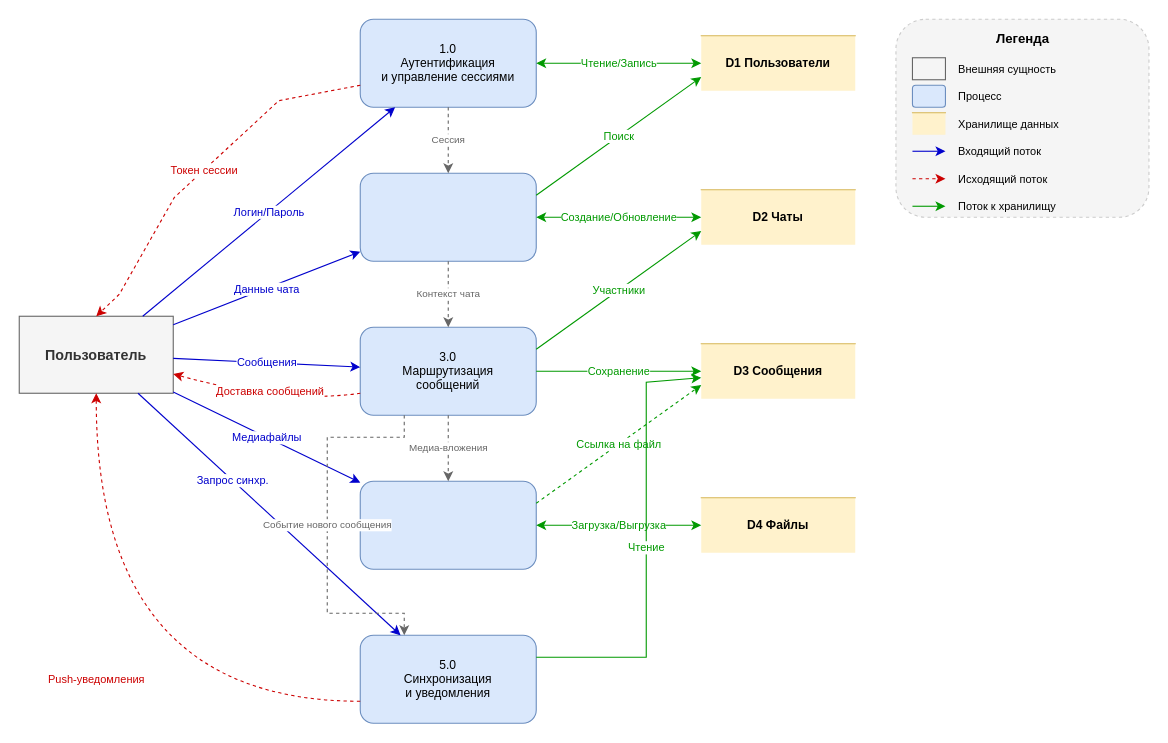
The diagram is 1168 pixels wide and 743 high, and some of its shapes have lost their labels. The shapes that lost their labels are listed below. From the top down, each one's centre as x and y in pixels, then its label:
At (x=447, y=216): "2.0 Управление чатами и участниками".
At (x=447, y=524): "4.0 Обработка и хранение медиа".
